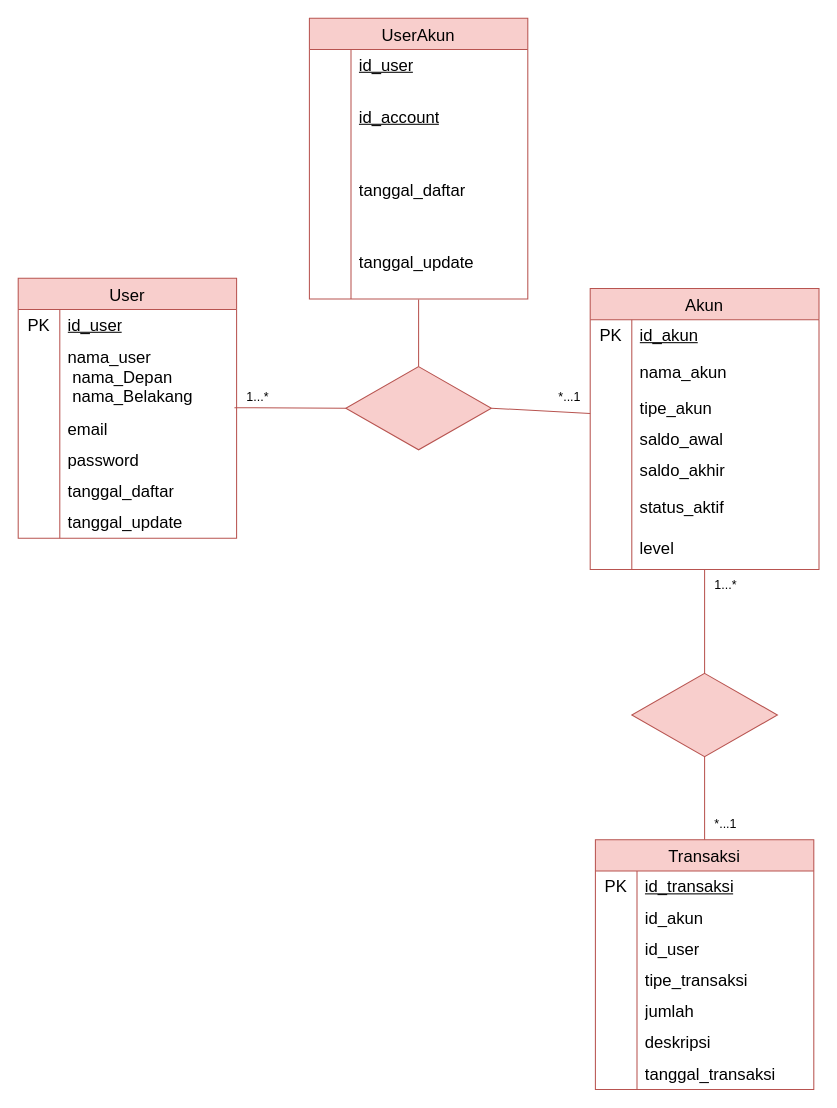
Image size: 837x1108. Some labels were removed from this diagram. The shapes that lost their labels are listed below. From the top down, each one's centre as x and y in pixels, then its label:
[418,408]: membuat
[704,714]: melakukan
